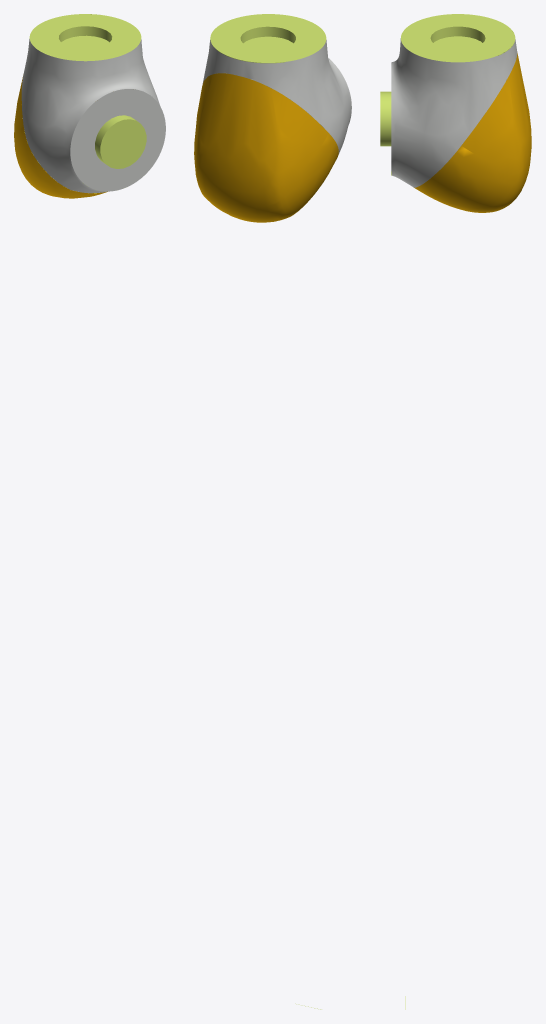
The model's file is IIWA14_Link6.dae.
The picture shows the model from 3 angles, left to right: view 1: azimuth 30°, elevation 25°; view 2: azimuth 150°, elevation 25°; view 3: azimuth 270°, elevation 25°; orthographic projection. The views are drawn at different scales.
Visible parts, largest first — view 1: MeshFeature2_006; view 2: MeshFeature2_006; view 3: MeshFeature2_006.
Boxes of the visible parts, <box> form: MeshFeature2_006: <box>14,14,165,198</box>; MeshFeature2_006: <box>194,14,351,1009</box>; MeshFeature2_006: <box>380,14,531,1009</box>.
Size of the model in its own units: 0.1322 by 0.1376 by 0.9734.
